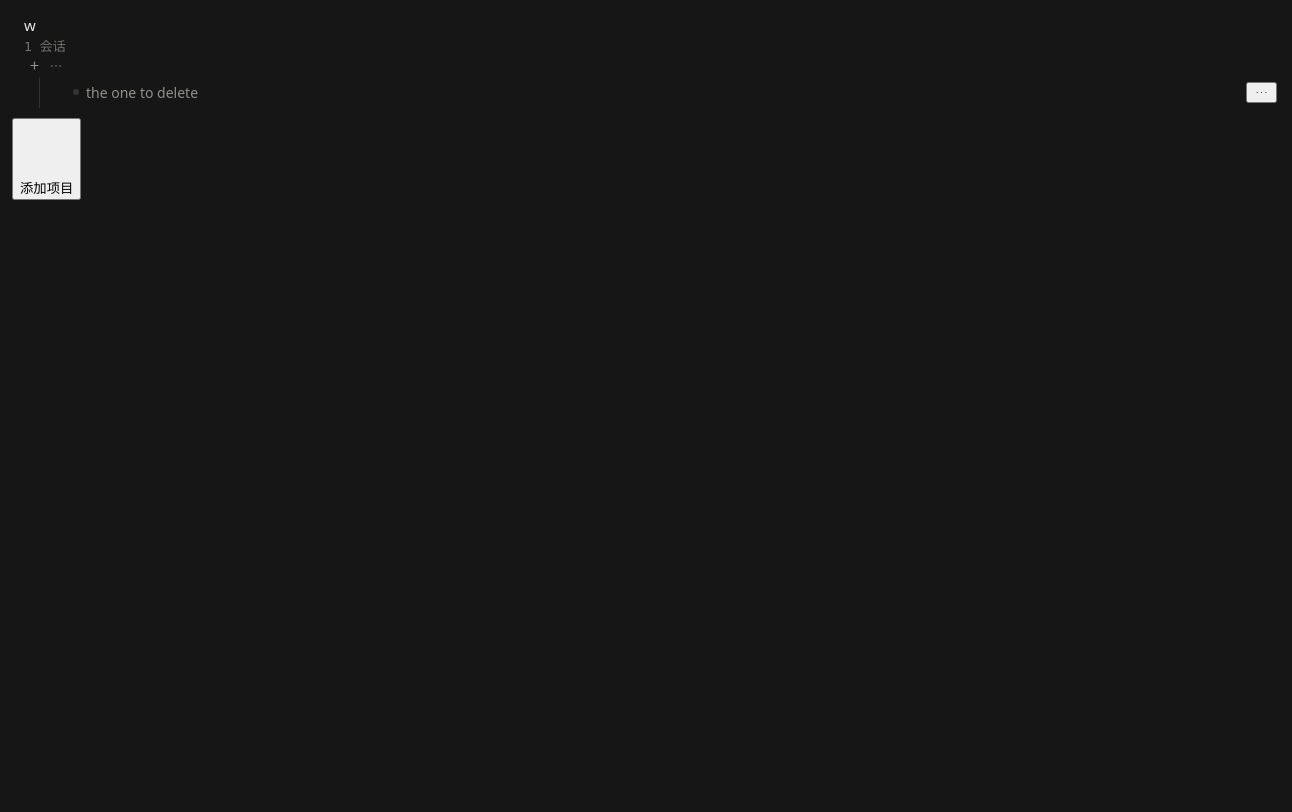
the conversation action menu › closes when the reader clicks outside it
Click the button named "会话操作：" at (1262, 92), box [1246, 82, 1277, 102]
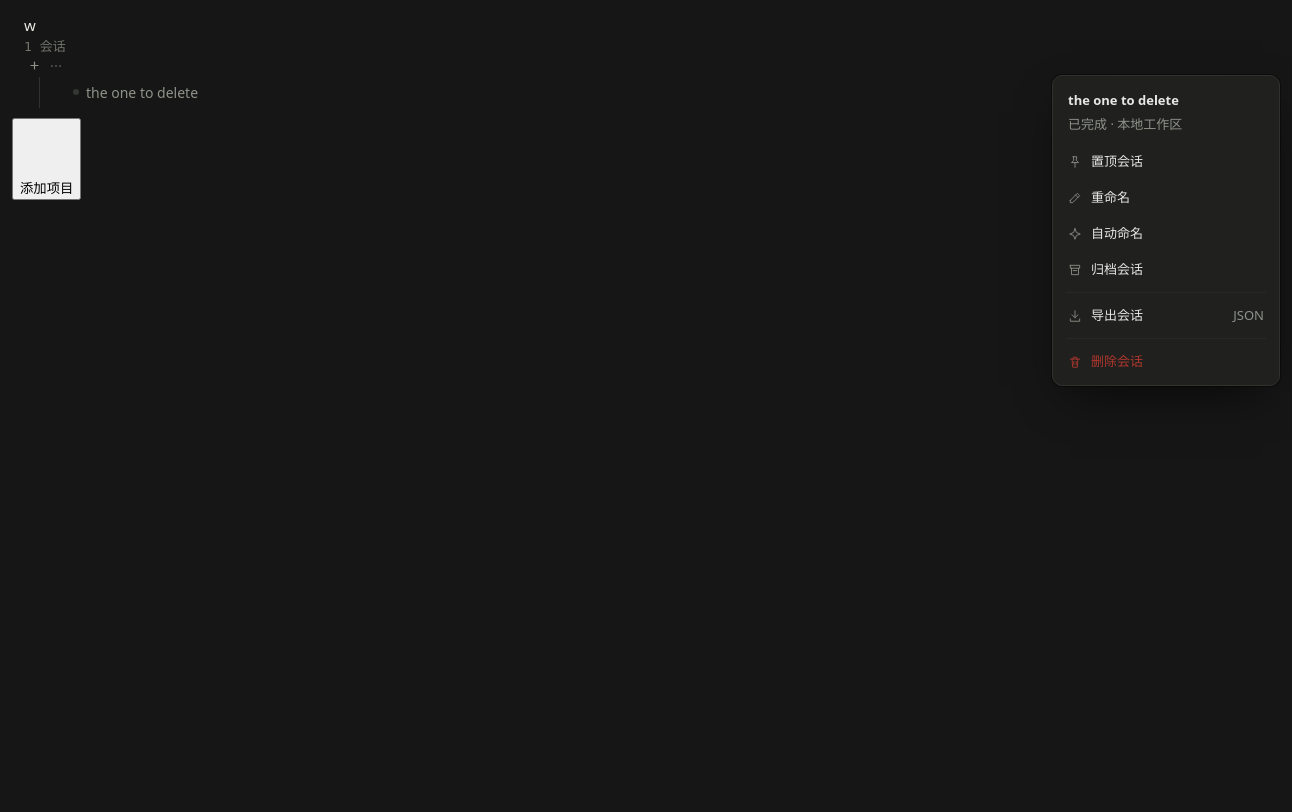
Check: the menu named "会话操作" is shown, box [1052, 74, 1280, 386]
Click the element that starts with "1 会话" at (652, 412), box [12, 12, 1291, 811]
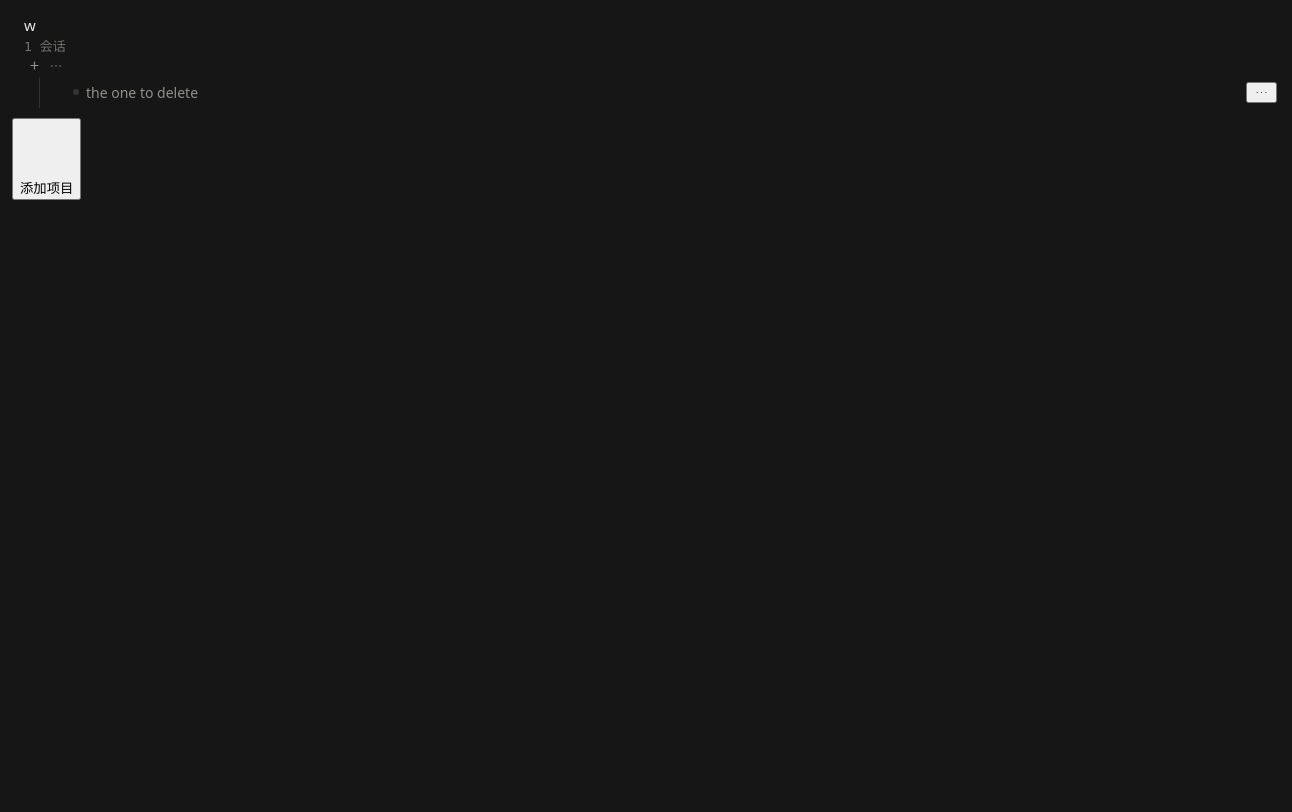
Check: the menu "会话操作" is gone
